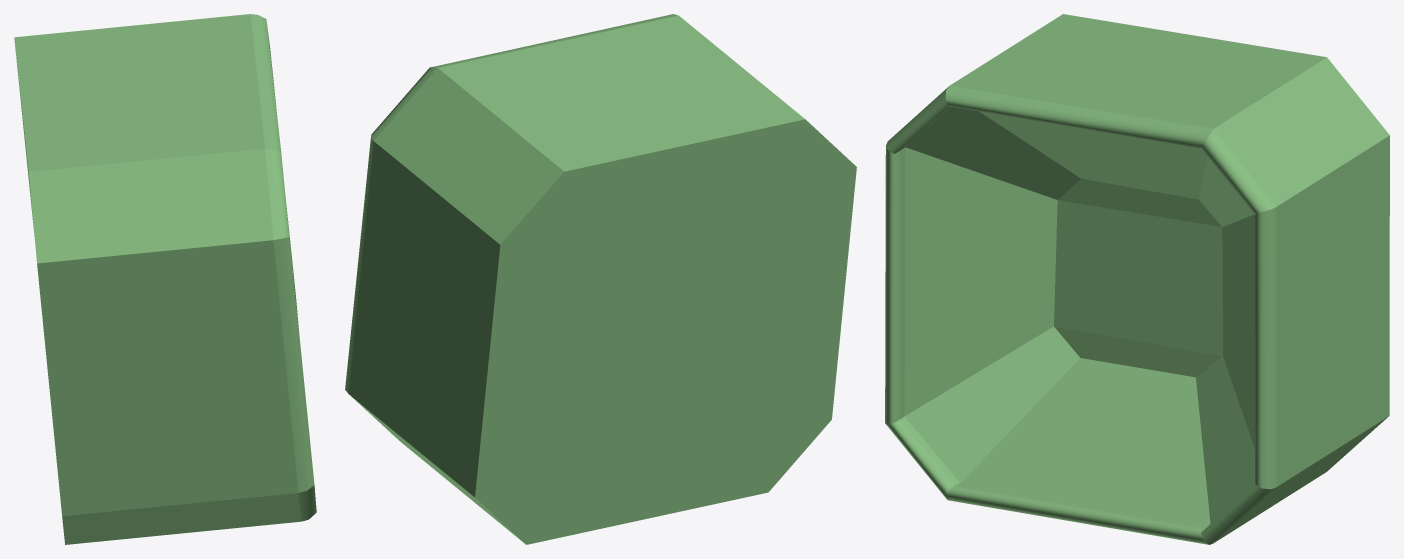
The model's file is BR5_8shapes_Square_Classic_Metal.001 3.glb.
3 views of the same model, side by side, from view 1: azimuth 30°, elevation 25°; view 2: azimuth 150°, elevation 25°; view 3: azimuth 270°, elevation 25° (orthographic). The views are drawn at different scales.
Visible parts, largest first — view 1: BR5_8shapes_Square_Classic_Metal.001; view 2: BR5_8shapes_Square_Classic_Metal.001; view 3: BR5_8shapes_Square_Classic_Metal.001.
Boxes of the visible parts, left/top/right/bottom form: BR5_8shapes_Square_Classic_Metal.001: left=14, top=14, right=316, bottom=544; BR5_8shapes_Square_Classic_Metal.001: left=345, top=14, right=856, bottom=544; BR5_8shapes_Square_Classic_Metal.001: left=885, top=14, right=1389, bottom=544.
Size of the model in its own units: 0.4868 by 0.5013 by 0.5354.
